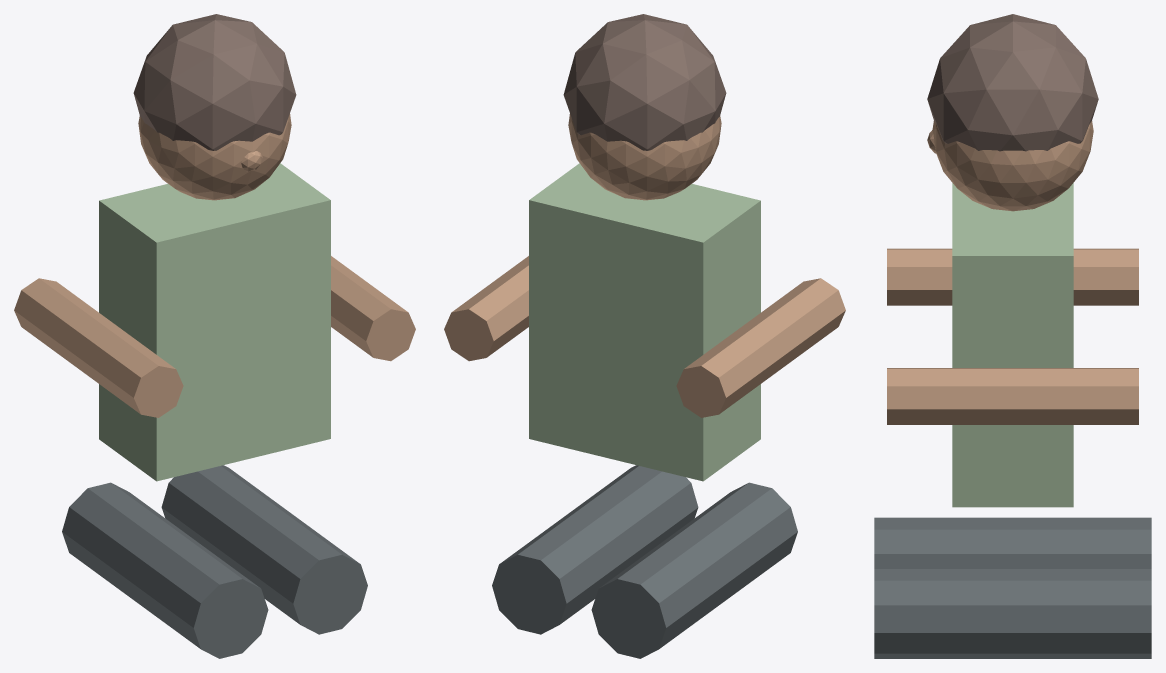
File: sim_elder_athletic.glb
3 views of the same model, side by side, from view 1: azimuth 30°, elevation 25°; view 2: azimuth 150°, elevation 25°; view 3: azimuth 270°, elevation 25° (orthographic). The views are drawn at different scales.
Parts seen in each view (by area): view 1: p002, p000, p001, p006, p003, p005, p004; view 2: p002, p000, p001, p006, p003, p005, p004; view 3: p002, p001, p006, p000, p004, p005, p003.
Boxes of the visible parts, bbox=[...] form: p002: bbox=[99, 163, 330, 481]; p000: bbox=[62, 482, 268, 658]; p001: bbox=[161, 465, 367, 634]; p006: bbox=[133, 14, 296, 150]; p003: bbox=[14, 278, 183, 417]; p005: bbox=[138, 114, 291, 200]; p004: bbox=[331, 256, 415, 361]; p002: bbox=[529, 163, 760, 481]; p000: bbox=[591, 482, 797, 658]; p001: bbox=[492, 465, 698, 634]; p006: bbox=[563, 14, 726, 150]; p003: bbox=[676, 278, 845, 417]; p005: bbox=[568, 114, 721, 200]; p004: bbox=[444, 256, 528, 361]; p002: bbox=[952, 183, 1073, 507]; p001: bbox=[874, 569, 1151, 658]; p006: bbox=[927, 14, 1098, 151]; p000: bbox=[874, 517, 1151, 568]; p004: bbox=[887, 368, 1138, 424]; p005: bbox=[932, 121, 1093, 211]; p003: bbox=[887, 248, 1138, 305].
Size of the model in its own units: 0.68 by 1.33 by 0.55.
